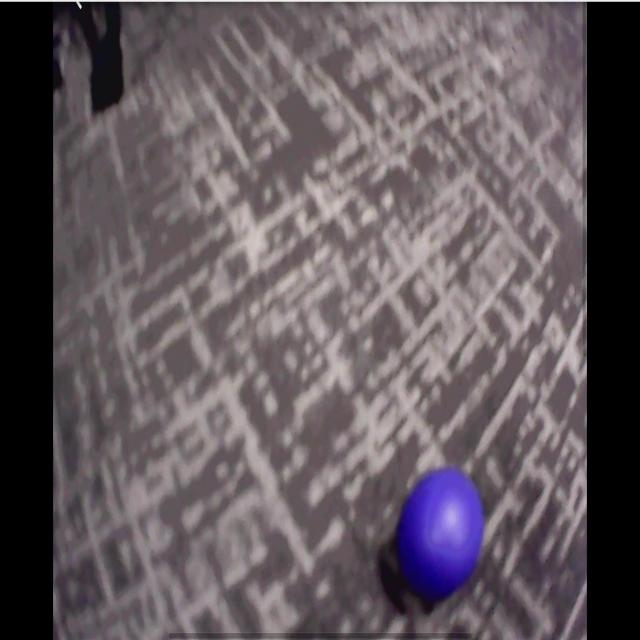ball: (401, 472, 484, 594)
